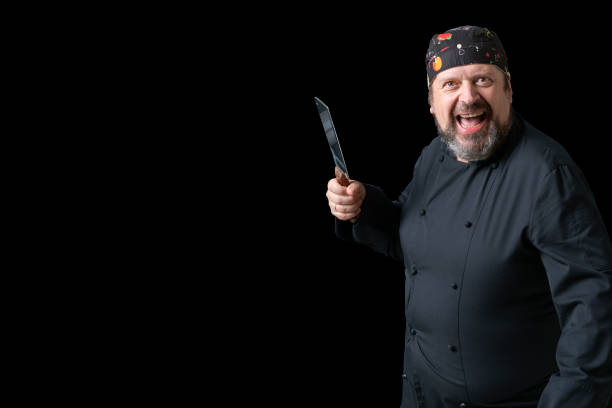knife: (315, 97, 362, 224)
